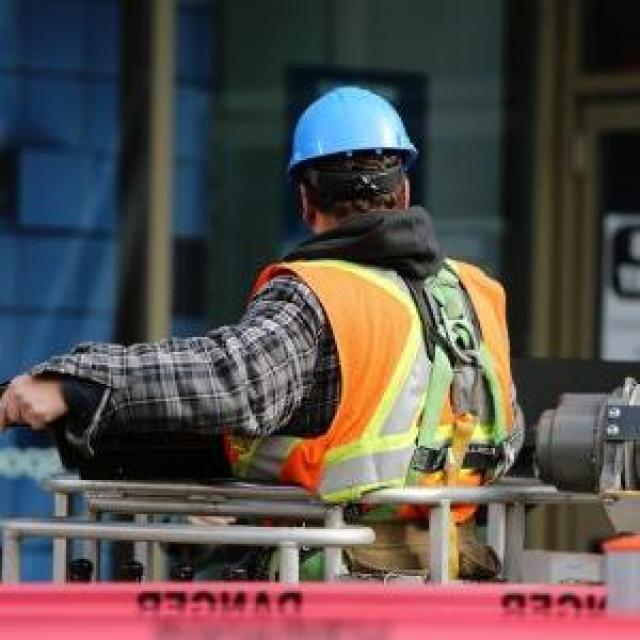Reflective-Jacket: (258, 245, 527, 580)
Safety-Helmet: (271, 77, 422, 183)
